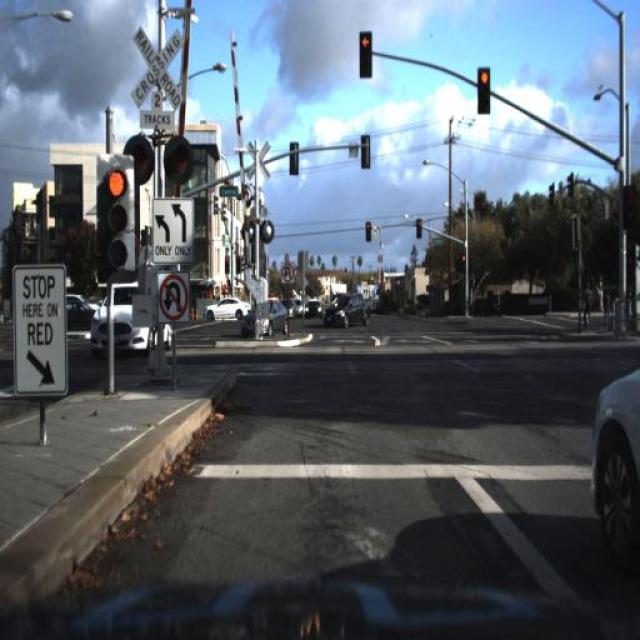car: (591, 354, 640, 584), (86, 274, 173, 364), (238, 296, 288, 346), (324, 290, 371, 331)
trafficLight: (582, 280, 592, 331)
trafficLight-RedLeft: (102, 158, 136, 248), (478, 64, 492, 104), (364, 216, 374, 246), (416, 215, 426, 240), (459, 249, 468, 267)
trafficLight-Yellow: (358, 28, 373, 63)
